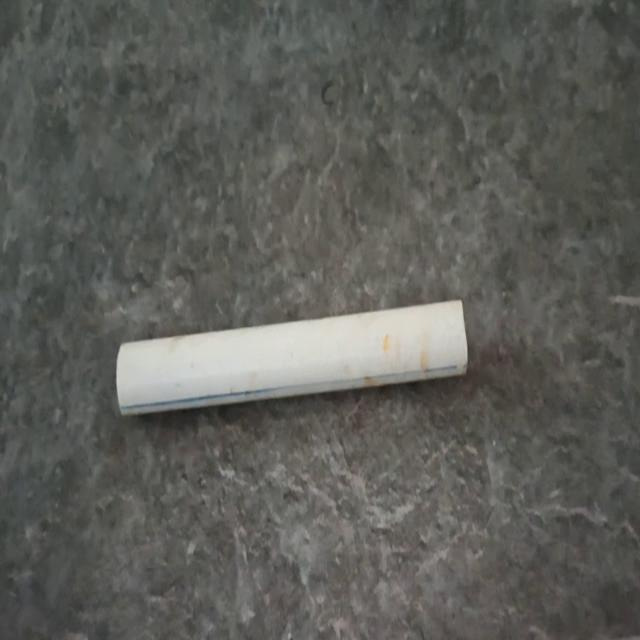Cube: (115, 297, 469, 417)
